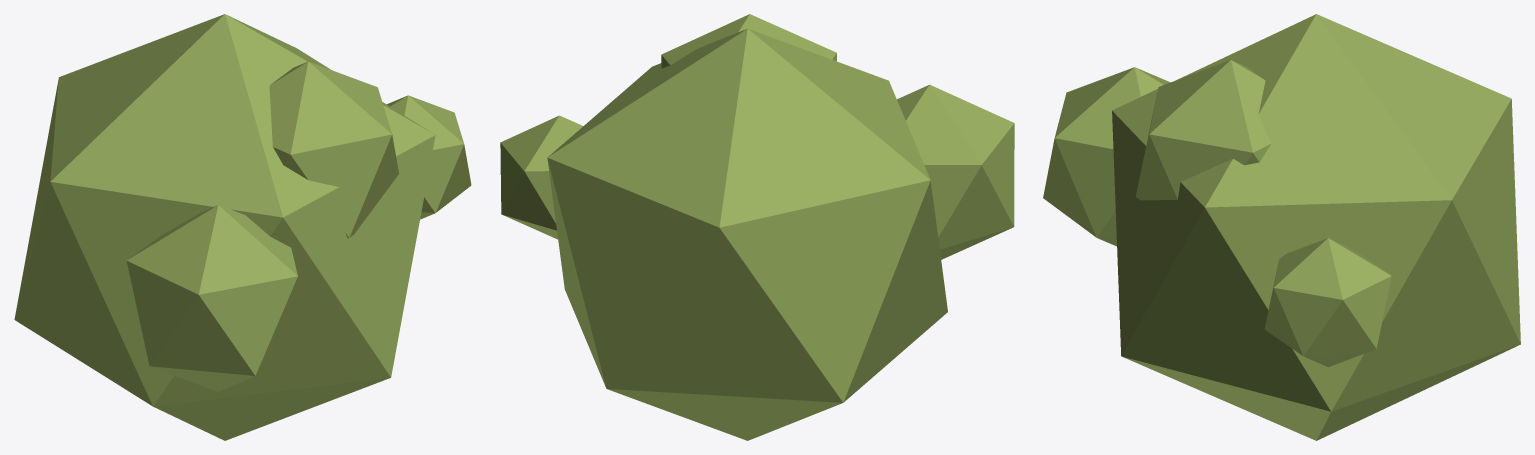
The model's file is bush_small_clump.glb.
The picture shows the model from 3 angles, left to right: view 1: azimuth 30°, elevation 25°; view 2: azimuth 150°, elevation 25°; view 3: azimuth 270°, elevation 25°; orthographic projection. The views are drawn at different scales.
Visible parts, largest first — view 1: Object_81; view 2: Object_81; view 3: Object_81.
Part boxes in pixels (x1,y1,x2,y2): Object_81: (14, 14, 471, 440); Object_81: (500, 14, 1014, 440); Object_81: (1043, 14, 1520, 440).
Size of the model in its own units: 1.3 by 1.24 by 1.26.
